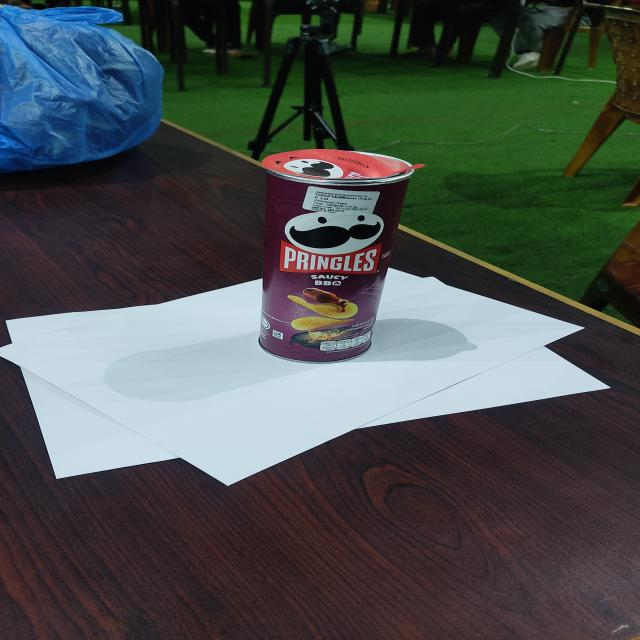Pringles: (256, 148, 422, 363)
